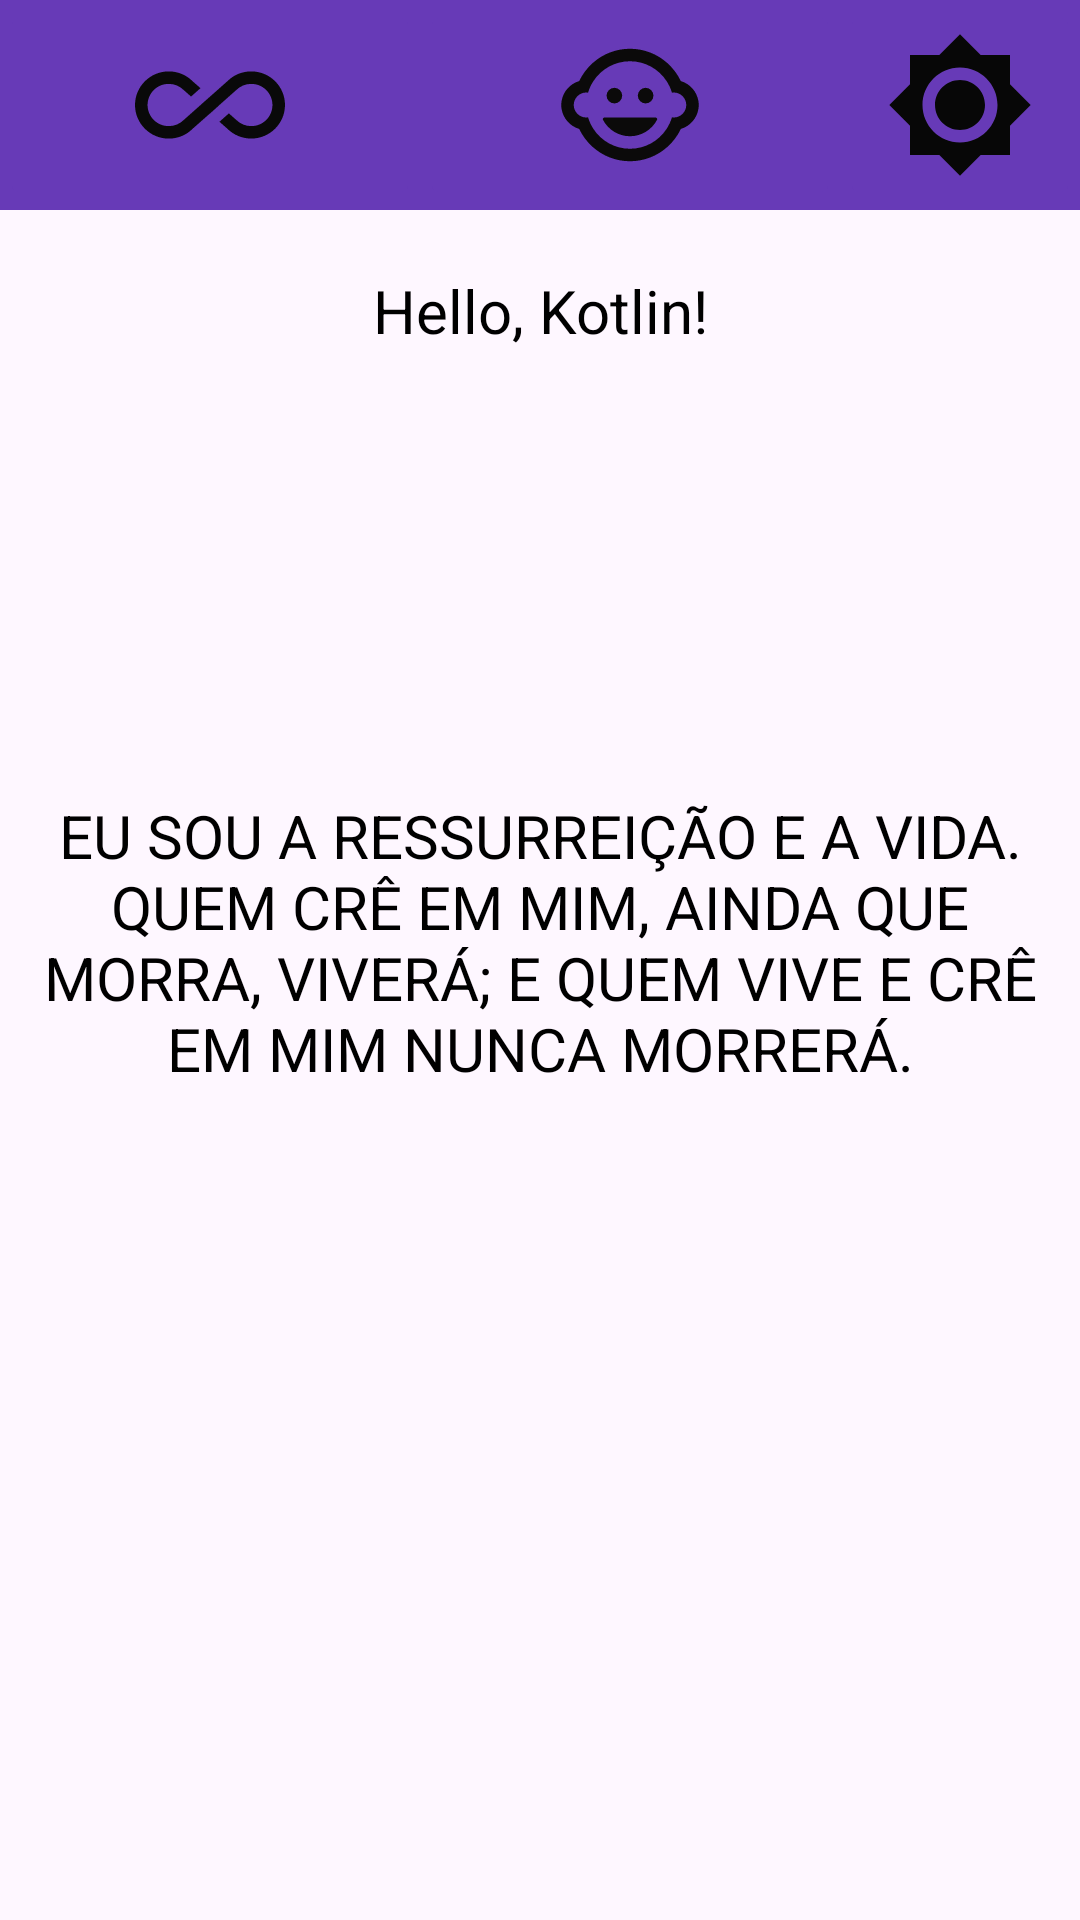

Icons on this 1080 x 1920 Android screen, each with its box as [x1,y1,x2,y2]:
child: [561,48,699,162]
infinity: [135,71,285,139]
sun: [889,34,1031,176]
